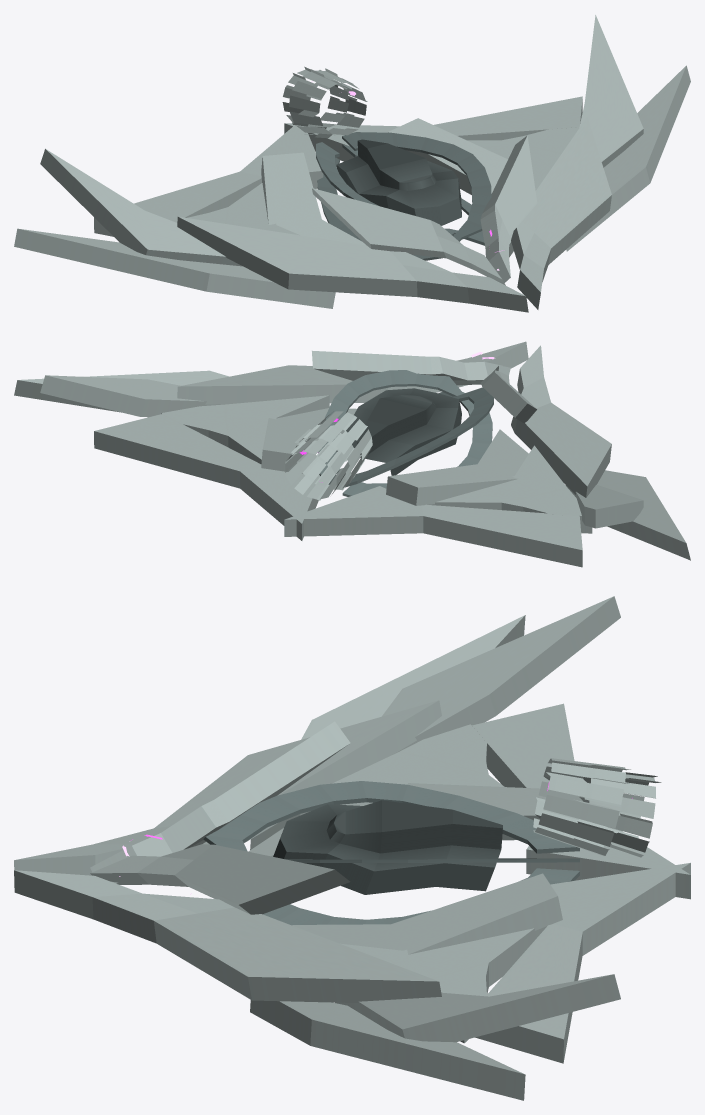
File: EnemyCommom.fbx
3 renders of one model, top to bottom at view 1: azimuth 30°, elevation 25°; view 2: azimuth 150°, elevation 25°; view 3: azimuth 270°, elevation 25°, orthographic. The views are drawn at different scales.
Visible parts, largest first — view 1: Plane.004, Circle.003, Circle.002, Plane.003; view 2: Plane.004, Circle.003, Circle.002, Plane.003; view 3: Plane.004, Circle.003, Circle.002, Plane.003.
Part boxes in pixels (x1=…): Plane.004: x1=14, y1=15, x2=690, y2=312; Circle.003: x1=336, y1=139, x2=461, y2=225; Circle.002: x1=316, y1=132, x2=491, y2=260; Plane.003: x1=282, y1=66, x2=367, y2=138; Plane.004: x1=14, y1=341, x2=690, y2=567; Circle.003: x1=336, y1=388, x2=461, y2=475; Circle.002: x1=318, y1=370, x2=493, y2=496; Plane.003: x1=285, y1=411, x2=372, y2=500; Plane.004: x1=14, y1=596, x2=690, y2=1100; Circle.003: x1=273, y1=800, x2=502, y2=894; Circle.002: x1=203, y1=781, x2=579, y2=925; Plane.003: x1=533, y1=758, x2=661, y2=857.
Bounding box in the file's own units: 4.9 × 0.8267 × 3.01.
